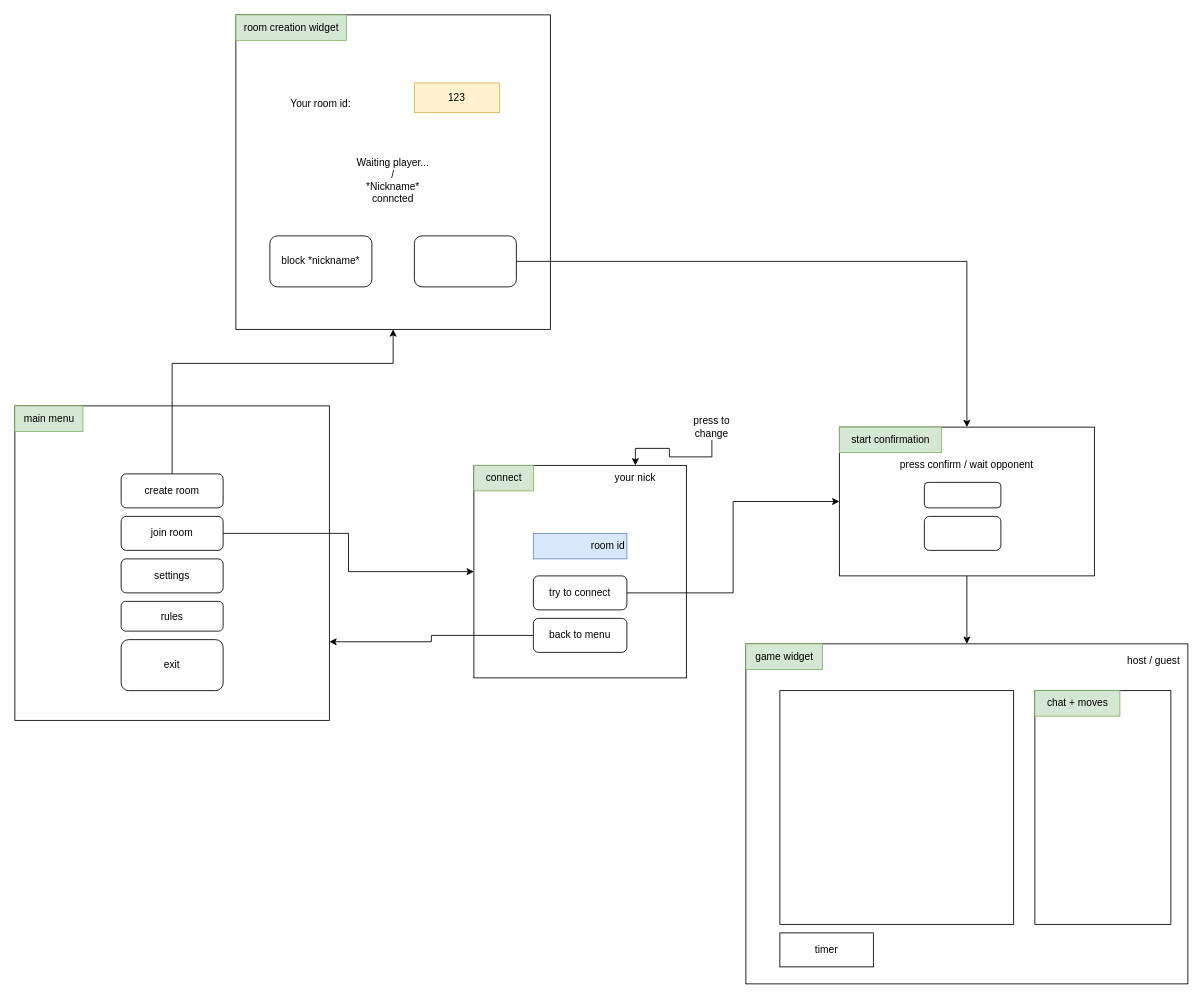
This 1203x999 diagram has some shape labels left out. The shapes that lost their labels are listed below. From the top down, each one's centre as x and y in pixels, then its label:
At pixel 465 261: "start game".
At pixel 962 495: "confirm".
At pixel 962 533: "cancel".
At pixel 896 807: "Field".
